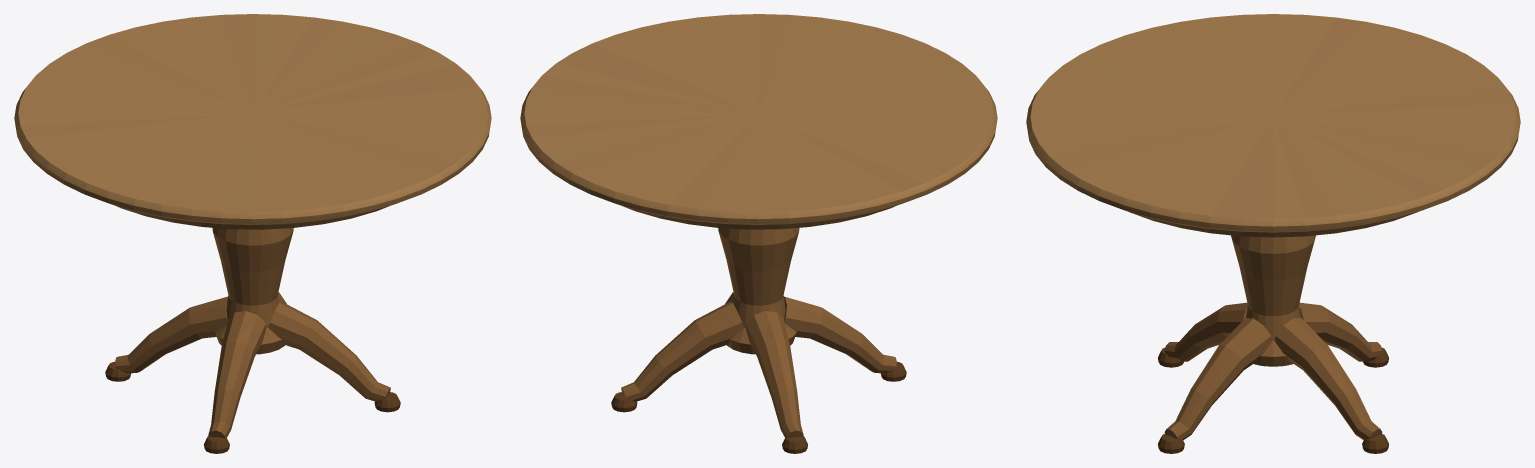
Rendered from round-table.glb.
3 views of the same model, side by side, from view 1: azimuth 30°, elevation 25°; view 2: azimuth 150°, elevation 25°; view 3: azimuth 270°, elevation 25° (orthographic). The views are drawn at different scales.
Parts seen in each view (by area): view 1: round_table; view 2: round_table; view 3: round_table.
Boxes of the visible parts, x1,y1,x2,y2 form: round_table: [14, 14, 491, 453]; round_table: [520, 14, 997, 453]; round_table: [1026, 14, 1520, 453].
Bounding box in the file's own units: 1.16 × 0.75 × 1.16.
